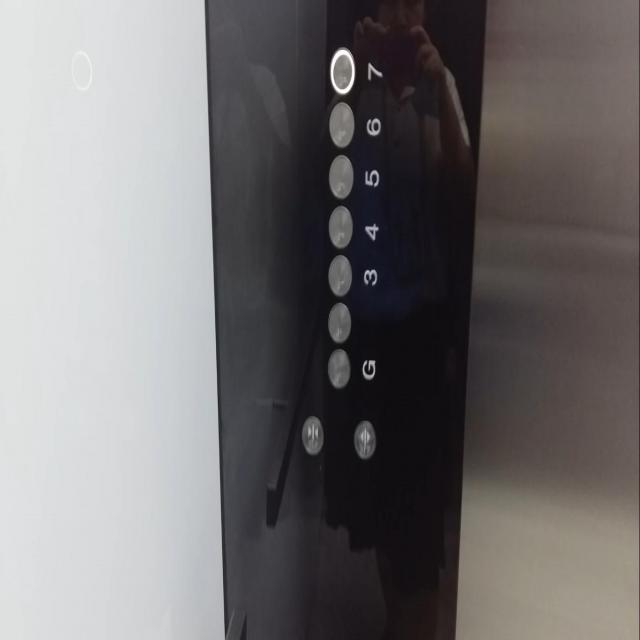close: (300, 413, 325, 455)
empty: (328, 44, 357, 96), (327, 151, 354, 201), (328, 99, 355, 148), (327, 203, 354, 252), (326, 346, 352, 390), (327, 252, 352, 296), (327, 299, 352, 343)
open: (353, 417, 377, 461)
